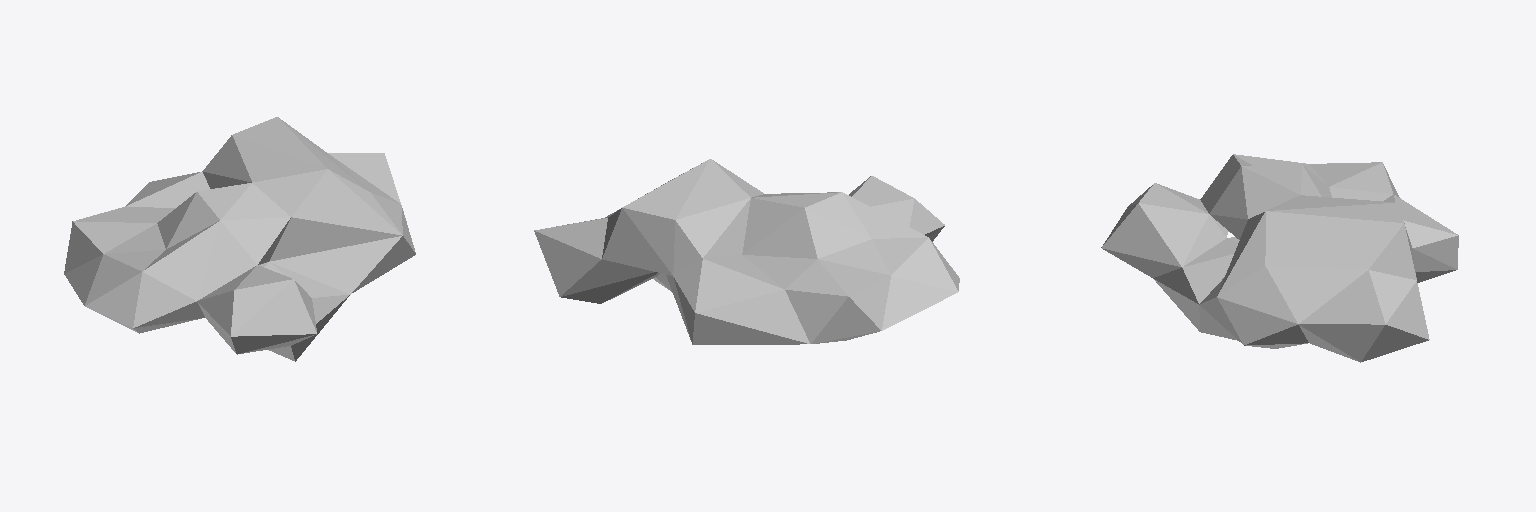
Rendered from cloud.obj.
3 renders of one model, left to right at view 1: azimuth 30°, elevation 25°; view 2: azimuth 150°, elevation 25°; view 3: azimuth 270°, elevation 25°, orthographic.
Visible parts, largest first — view 1: Mball.001_Mesh; view 2: Mball.001_Mesh; view 3: Mball.001_Mesh.
Part boxes in pixels (x1,y1,x2,y2): Mball.001_Mesh: (64, 117, 415, 361); Mball.001_Mesh: (534, 159, 959, 344); Mball.001_Mesh: (1101, 154, 1458, 362).
Bounding box in the file's own units: 8.47 × 3.42 × 7.24.